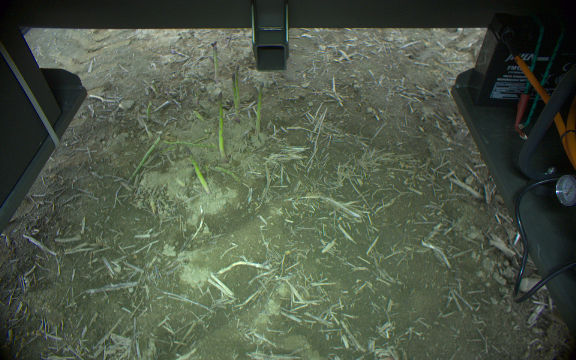aspa: (126, 133, 163, 186), (183, 148, 210, 194), (210, 92, 228, 159), (249, 81, 269, 136), (205, 38, 223, 86), (228, 70, 239, 117), (142, 103, 154, 122), (235, 63, 242, 86)
